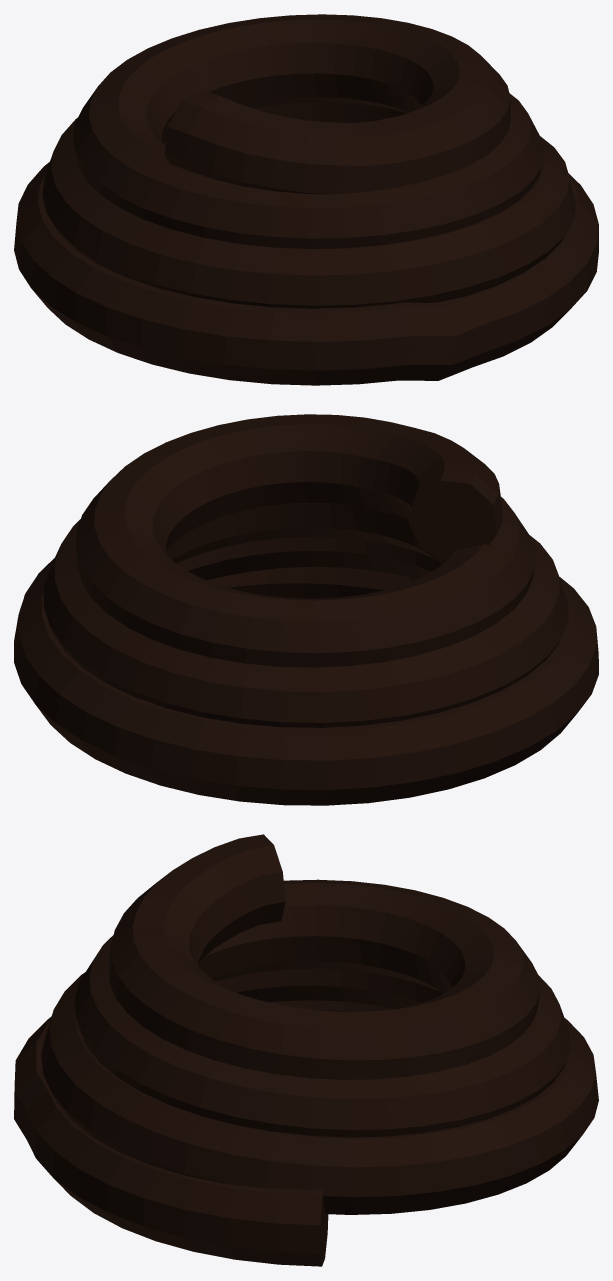
File: Rope_FBX.fbx
3 renders of one model, top to bottom at view 1: azimuth 30°, elevation 25°; view 2: azimuth 150°, elevation 25°; view 3: azimuth 270°, elevation 25°, orthographic. The views are drawn at different scales.
Visible parts, largest first — view 1: Helix003; view 2: Helix003; view 3: Helix003.
Boxes of the visible parts, x1=… form: Helix003: x1=14, y1=14, x2=598, y2=385; Helix003: x1=14, y1=414, x2=598, y2=805; Helix003: x1=14, y1=834, x2=598, y2=1266.
Bounding box in the file's own units: 89.94 × 40.46 × 87.31.
